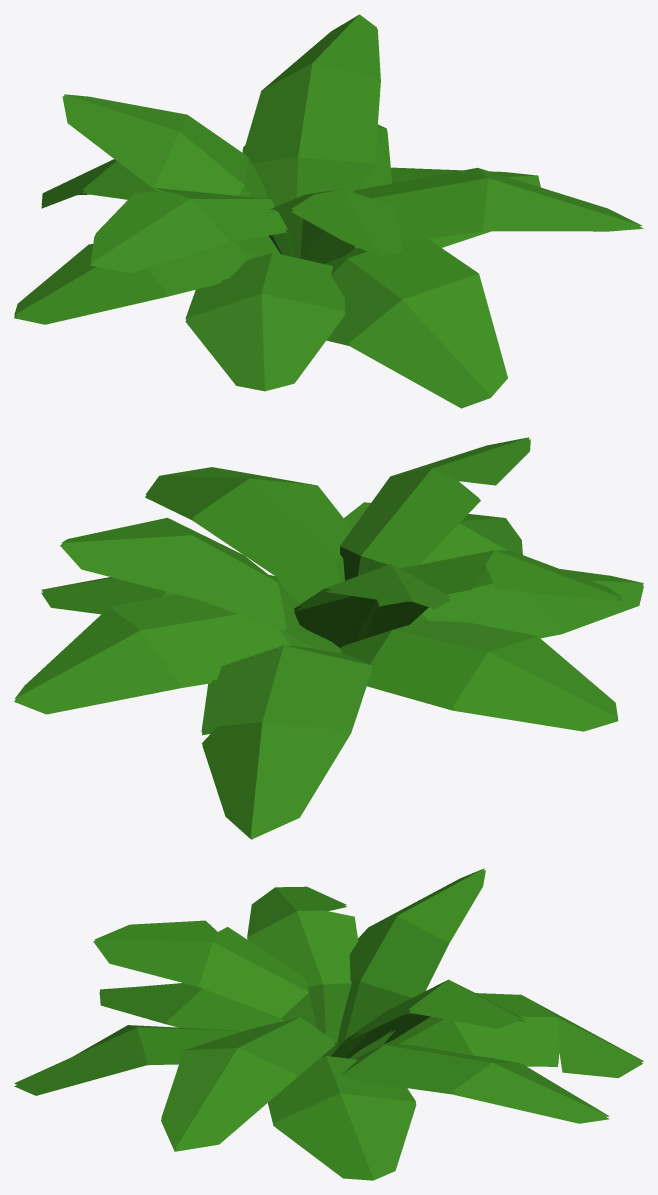
The model's file is Plant4.fbx.
3 views of the same model, one above another, from view 1: azimuth 30°, elevation 25°; view 2: azimuth 150°, elevation 25°; view 3: azimuth 270°, elevation 25° (orthographic). The views are drawn at different scales.
Visible parts, largest first — view 1: Plant4; view 2: Plant4; view 3: Plant4.
Part boxes in pixels (<box>): Plant4: <box>14,14,643,408</box>; Plant4: <box>14,437,643,839</box>; Plant4: <box>14,868,643,1180</box>.
Size of the model in its own units: 1.45 by 0.4681 by 1.61.
